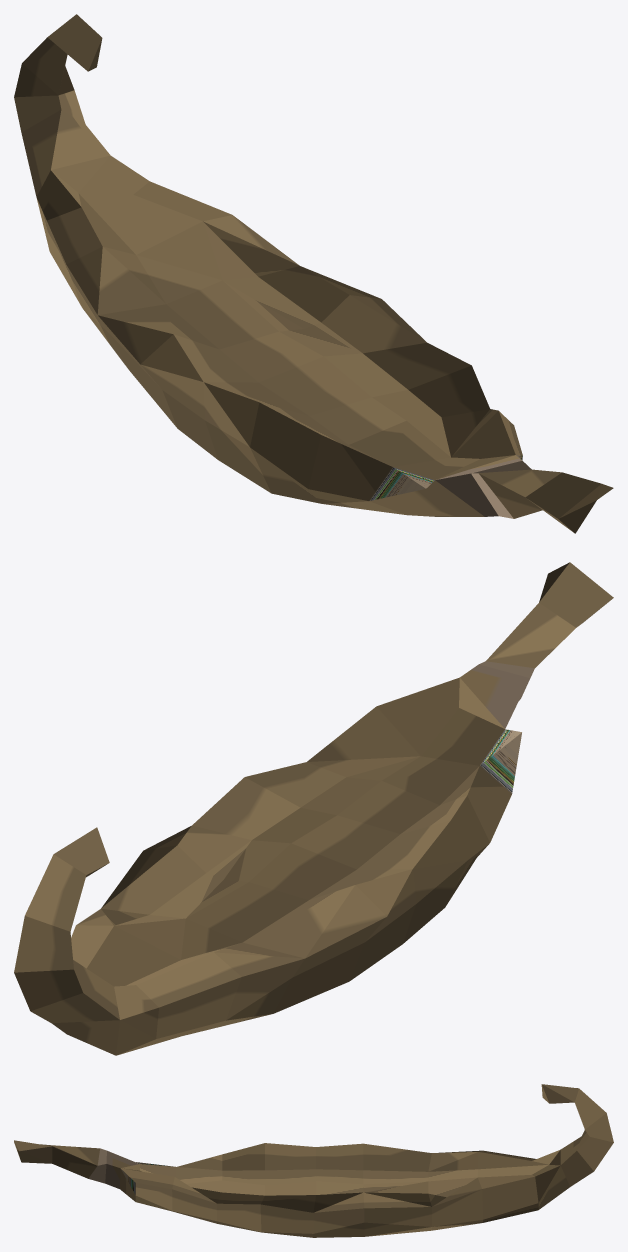
Rendered from SM_Veh_Boat_Small_01_Collision.fbx.
The picture shows the model from 3 angles, top to bottom: view 1: azimuth 30°, elevation 25°; view 2: azimuth 150°, elevation 25°; view 3: azimuth 270°, elevation 25°; orthographic projection. The views are drawn at different scales.
Visible parts, largest first — view 1: SM_Veh_Boat_Small_01_Collision; view 2: SM_Veh_Boat_Small_01_Collision; view 3: SM_Veh_Boat_Small_01_Collision.
Part boxes in pixels (x1,y1,x2,y2): SM_Veh_Boat_Small_01_Collision: (14, 14, 613, 533); SM_Veh_Boat_Small_01_Collision: (14, 562, 613, 1055); SM_Veh_Boat_Small_01_Collision: (14, 1084, 613, 1237).
Size of the model in its own units: 188 by 205 by 742.
